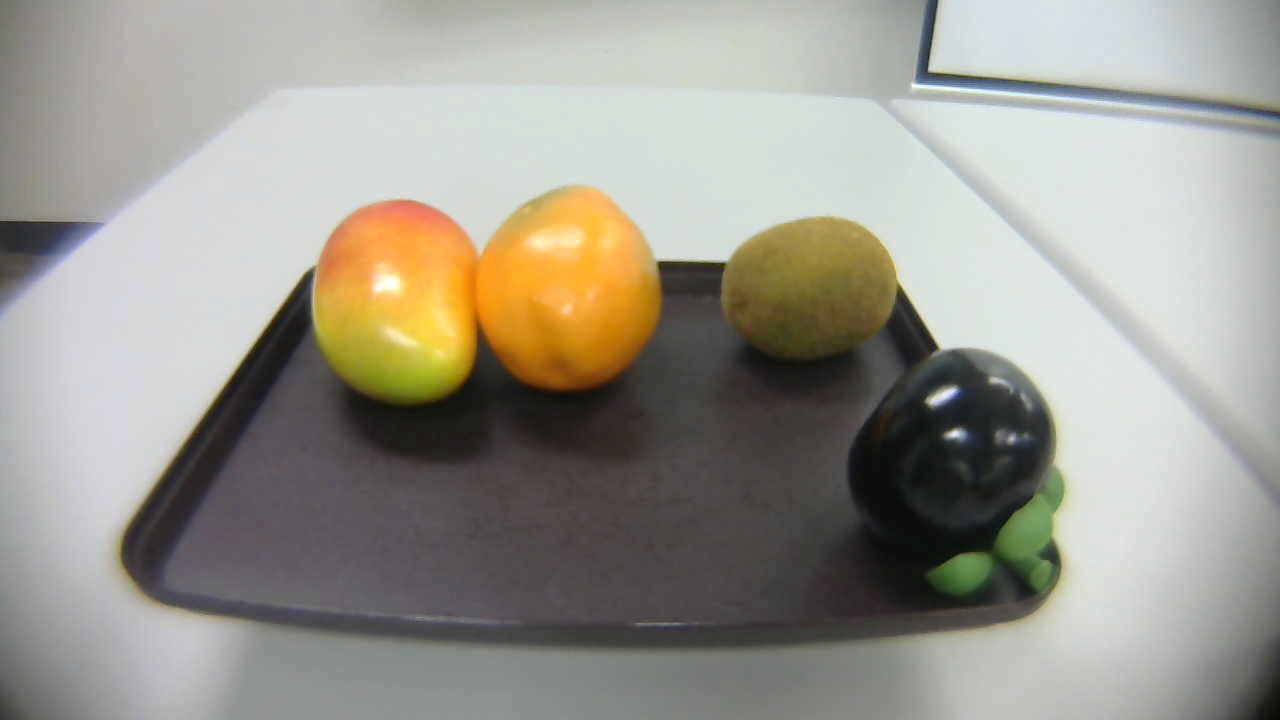kiwi fruit: (687, 199, 927, 374)
mangosteen: (835, 340, 1076, 627)
papya: (467, 163, 675, 408)
red mango: (305, 198, 492, 418)
